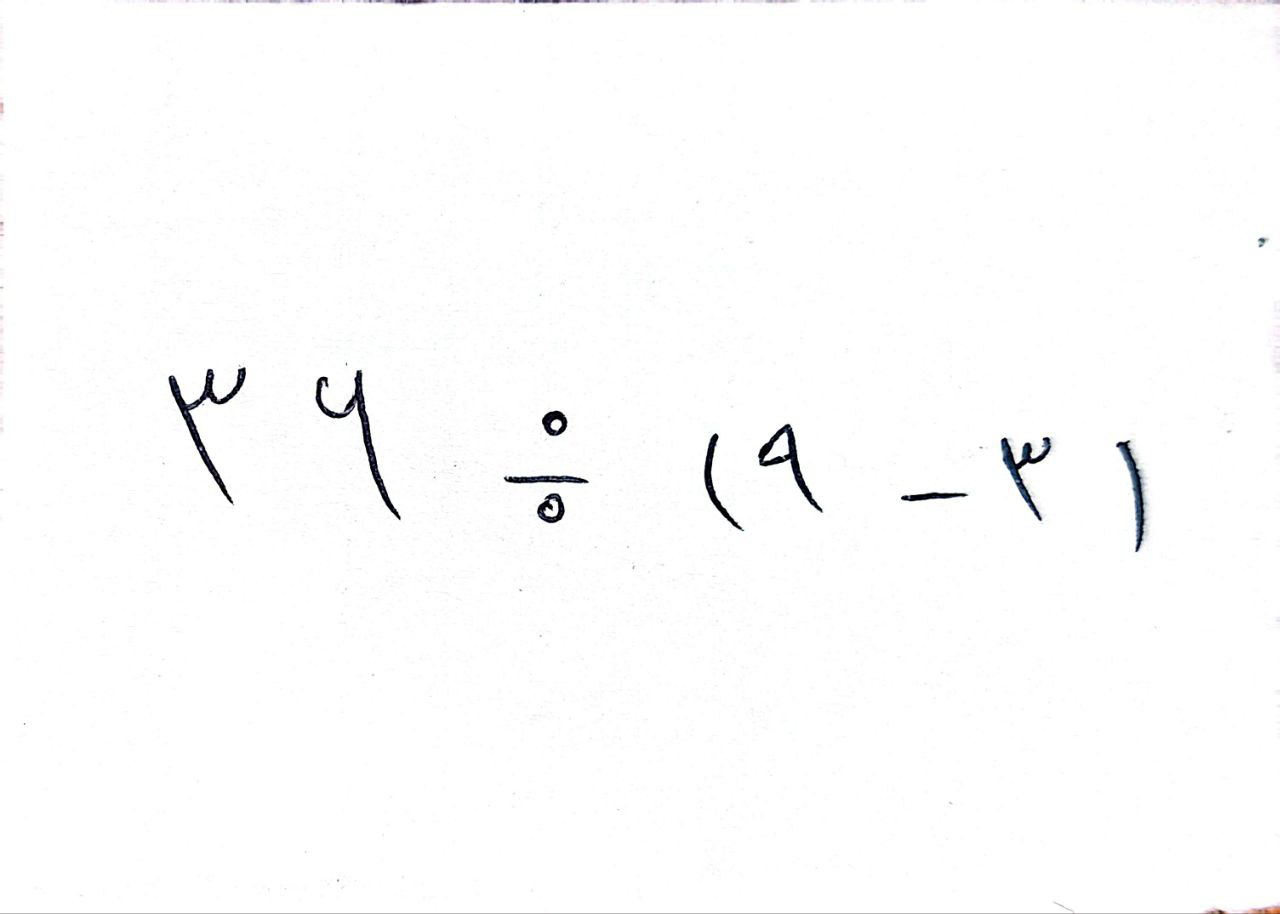character: (313, 369, 403, 524), (167, 364, 250, 507), (505, 407, 589, 528), (753, 422, 830, 513), (997, 433, 1055, 521), (700, 429, 745, 536), (1115, 440, 1154, 552), (895, 485, 969, 505)
